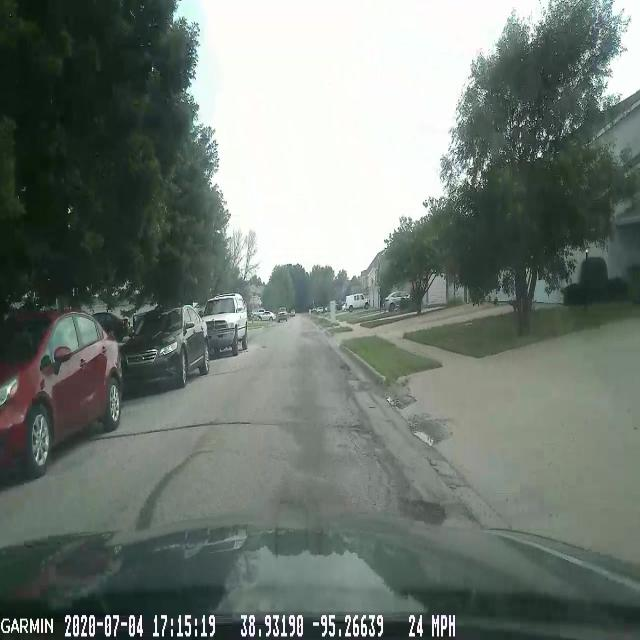Pothole: (398, 490, 457, 525), (409, 415, 443, 454), (380, 382, 420, 415)
